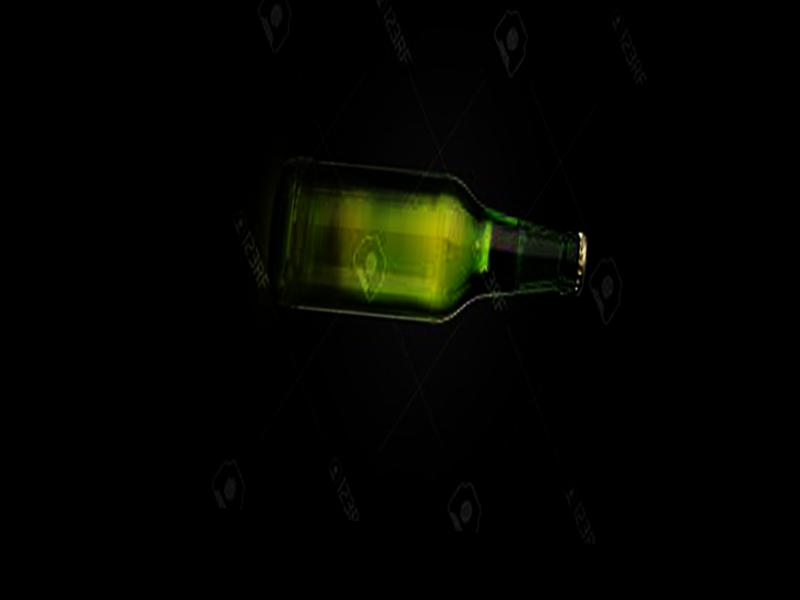Beer: (266, 160, 593, 340)
